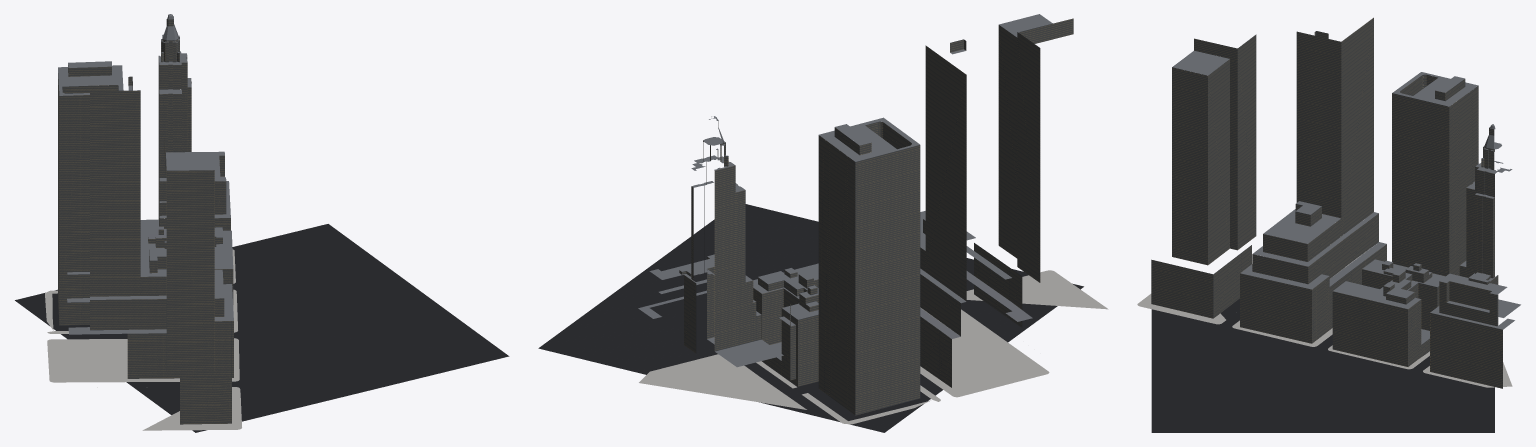
3 views of the same model, side by side, from view 1: azimuth 30°, elevation 25°; view 2: azimuth 150°, elevation 25°; view 3: azimuth 270°, elevation 25° (orthographic). The views are drawn at different scales.
Visible parts, largest first — view 1: t7_6, detail; view 2: t7_6, detail; view 3: t7_6, detail.
Boxes of the visible parts, x1,y1,x2,y2 form: t7_6: (15,14,509,432); detail: (45,249,241,430); t7_6: (538,14,1083,432); detail: (639,270,1108,424); t7_6: (1151,17,1520,432); detail: (1137,268,1512,387).
Bounding box in the file's own units: 298 × 215 × 280.
4 materials, 2 textured.
